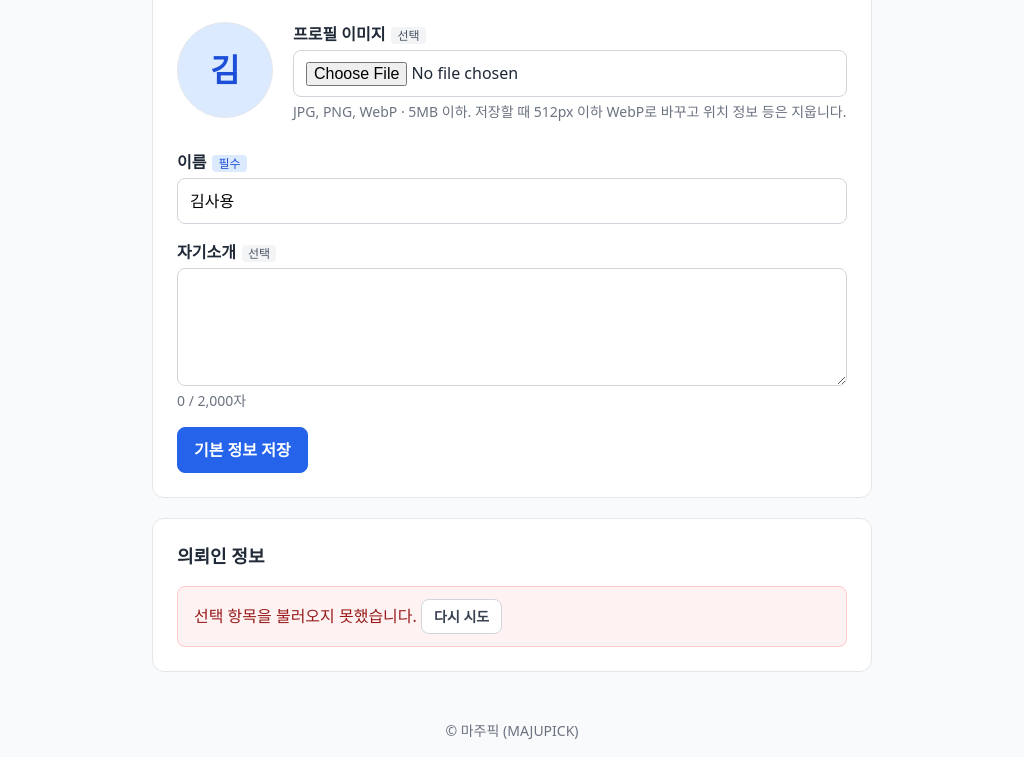
it: my profile page › shows an error when the options cannot be loaded and retries
The image size is (1024, 757).
(page scrolled)
expect the text "선택 항목을 불러오지 못했습니다. 다시 시도" is shown: met, box x1=177 y1=586 x2=847 y2=647
Click the button "다시 시도": point(462, 616) x1=421 y1=599 x2=502 y2=634
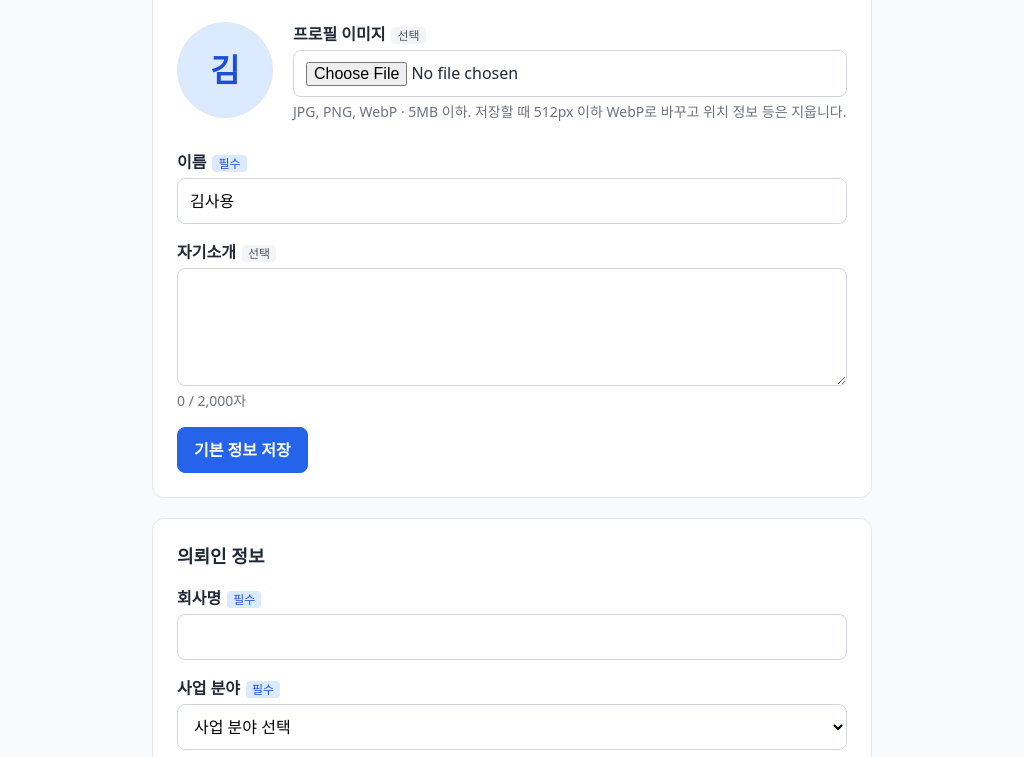
expect the field labelled "회사명" is shown: met, box x1=177 y1=614 x2=847 y2=660
